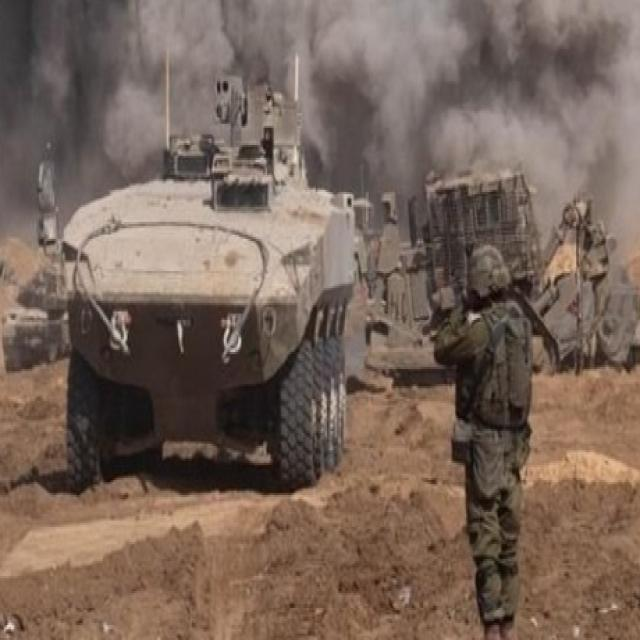MIL_APC: (45, 121, 379, 499)
